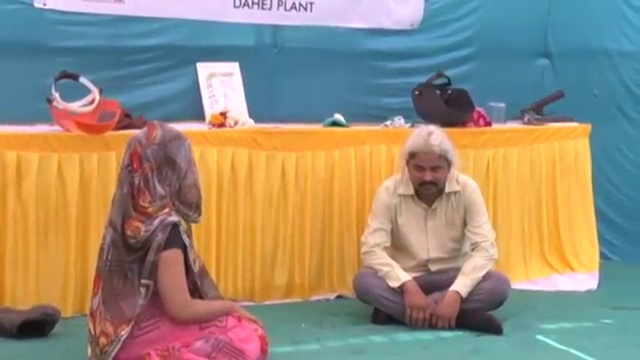helmet_off: (116, 121, 201, 224), (401, 125, 453, 197)
person: (82, 119, 271, 360), (352, 125, 514, 335)
